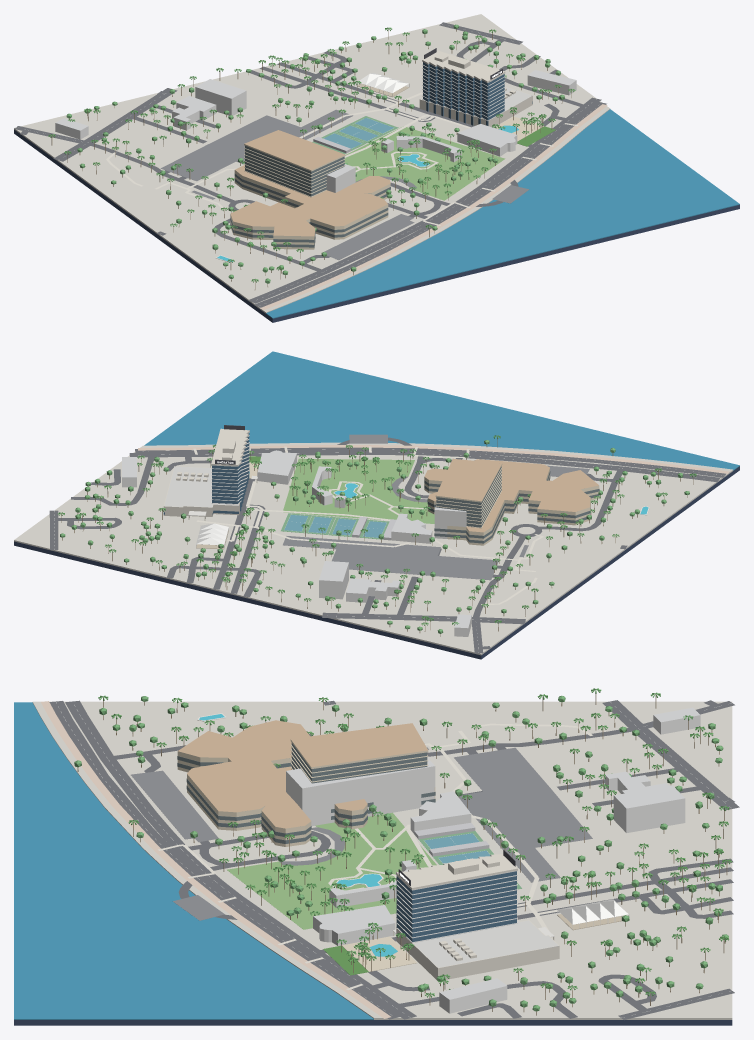
File: plantel.glb
3 renders of one model, top to bottom at view 1: azimuth 30°, elevation 25°; view 2: azimuth 150°, elevation 25°; view 3: azimuth 270°, elevation 25°, orthographic. The views are drawn at different scales.
Visible parts, largest first — view 1: Maqueta · tierra, Maqueta · mar, Jaragua · complejo, Jardín 1434373294, Maqueta · base, Parqueo 177325971, Avenida George Washington 406999151-0, Jaragua · torre azotea, Paseo del Malecón 0, Avenida George Washington 403451693-0, Parqueo 1001570881, Casino Diamante (+11 smaller); view 2: Maqueta · tierra, Maqueta · mar, Jaragua · complejo, Jardín 1434373294, Parqueo 177325971, Maqueta · base, Avenida George Washington 406999151-0, Jaragua · torre azotea, Paseo del Malecón 0, TECHO Podio · techo, Avenida George Washington 403451693-0, Casino Diamante (+12 smaller); view 3: Maqueta · tierra, Maqueta · mar, Jaragua · complejo, Parqueo 177325971, Jardín 1434373294, Vecino 1434375825, Maqueta · base, Avenida George Washington 406999151-0, Jaragua · torre azotea, TECHO Podio · techo, Paseo del Malecón 0, Avenida George Washington 403451693-0 (+29 smaller).
Boxes of the visible parts, x1,y1,x2,y2 form: Maqueta · tierra: [14, 14, 610, 313]; Maqueta · mar: [266, 109, 739, 318]; Jaragua · complejo: [230, 165, 390, 249]; Jardín 1434373294: [344, 126, 505, 200]; Maqueta · base: [14, 129, 739, 322]; Parqueo 177325971: [160, 109, 353, 181]; Avenida George Washington 406999151-0: [254, 102, 606, 307]; Jaragua · torre azotea: [244, 130, 345, 171]; Paseo del Malecón 0: [260, 104, 607, 309]; Avenida George Washington 403451693-0: [248, 198, 468, 303]; Parqueo 1001570881: [324, 214, 414, 260]; Casino Diamante: [457, 124, 517, 156]; Maqueta · tierra: [14, 442, 733, 655]; Maqueta · mar: [144, 351, 739, 470]; Jaragua · complejo: [424, 459, 599, 545]; Jardín 1434373294: [283, 458, 434, 523]; Parqueo 177325971: [283, 536, 498, 580]; Maqueta · base: [14, 466, 739, 659]; Avenida George Washington 406999151-0: [135, 447, 725, 477]; Jaragua · torre azotea: [435, 458, 502, 502]; Paseo del Malecón 0: [138, 445, 729, 473]; TECHO Podio · techo: [164, 466, 238, 507]; Avenida George Washington 403451693-0: [400, 450, 720, 482]; Casino Diamante: [257, 450, 296, 484]; Maqueta · tierra: [32, 701, 732, 1019]; Maqueta · mar: [14, 702, 373, 1019]; Jaragua · complejo: [177, 720, 435, 846]; Parqueo 177325971: [454, 747, 592, 882]; Jardín 1434373294: [227, 812, 436, 929]; Vecino 1434375825: [286, 758, 435, 826]; Maqueta · base: [14, 1020, 732, 1025]; Avenida George Washington 406999151-0: [49, 701, 399, 1019]; Jaragua · torre azotea: [290, 723, 428, 768]; TECHO Podio · techo: [413, 920, 559, 968]; Paseo del Malecón 0: [41, 701, 390, 1018]; Avenida George Washington 403451693-0: [65, 700, 222, 883].
Size of the model in its own units: 445 by 53.1 by 426.
